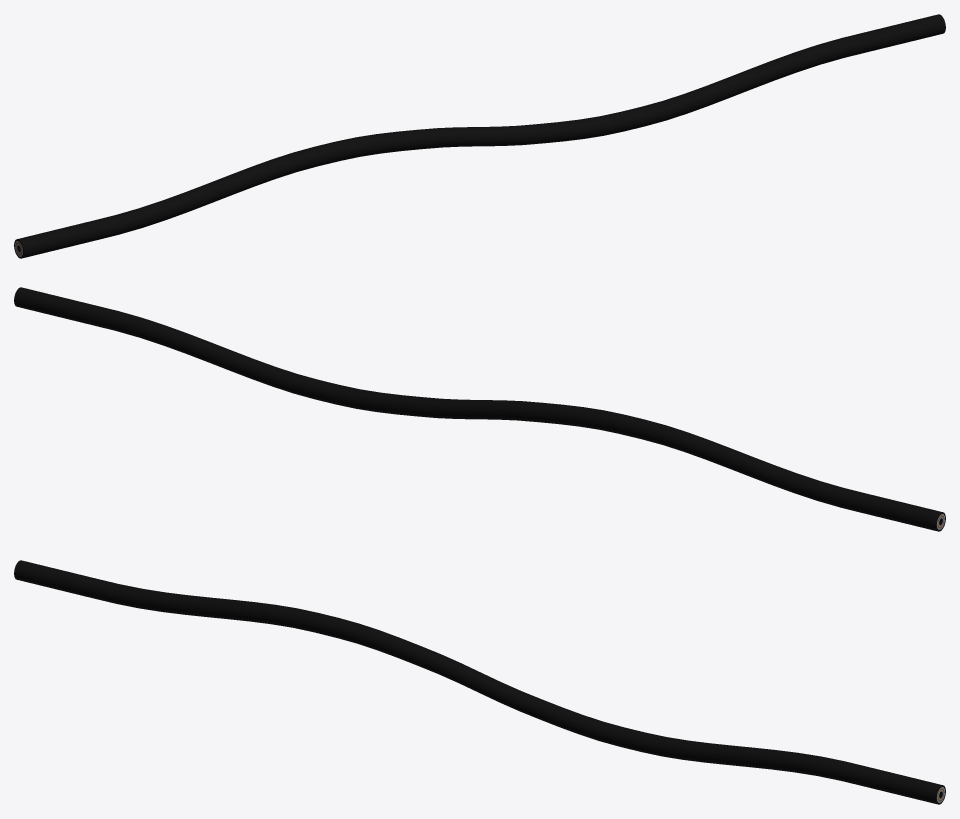
3 renders of one model, top to bottom at view 1: azimuth 30°, elevation 25°; view 2: azimuth 150°, elevation 25°; view 3: azimuth 330°, elevation 25°, orthographic.
Visible parts, largest first — view 1: SB_SS/PVC_Full-02; view 2: SB_SS/PVC_Full-02; view 3: SB_SS/PVC_Full-02.
Part boxes in pixels (<box>): SB_SS/PVC_Full-02: <box>14,14,945,258</box>; SB_SS/PVC_Full-02: <box>14,287,945,531</box>; SB_SS/PVC_Full-02: <box>14,560,945,804</box>.
Size of the model in its own units: 0.3074 by 0.0185 by 0.00579.
Materials: 3 (3 with a texture image).
